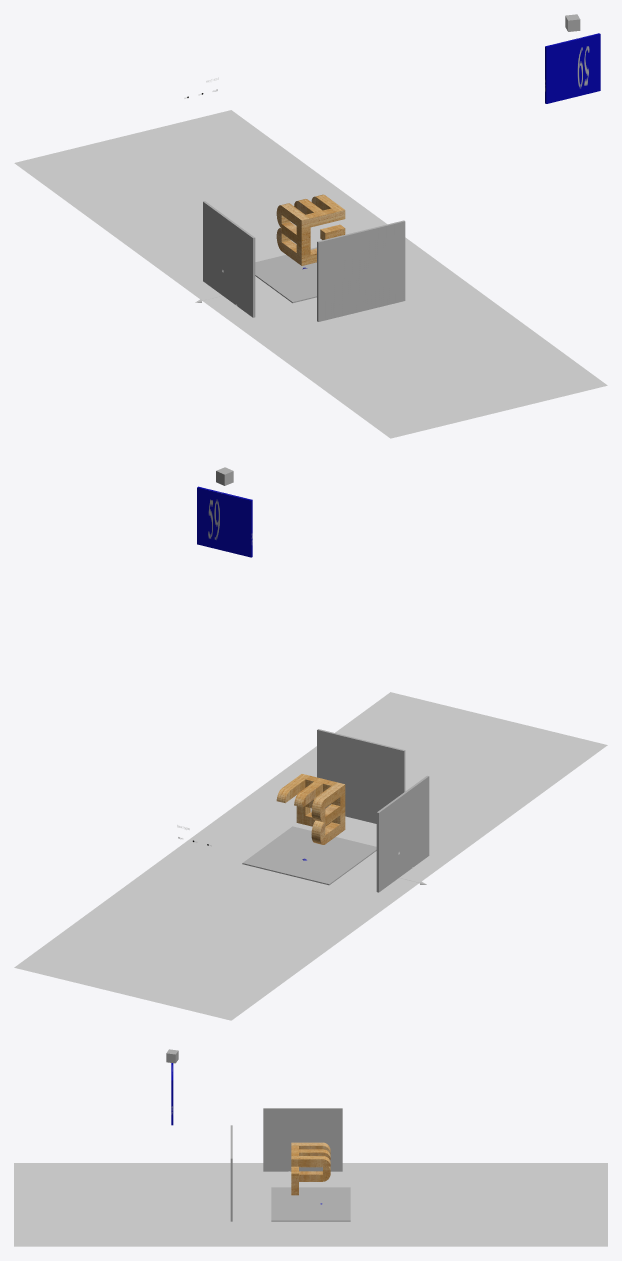
The model's file is geb_cube_scene_blender.glb.
3 views of the same model, one above another, from view 1: azimuth 30°, elevation 25°; view 2: azimuth 150°, elevation 25°; view 3: azimuth 270°, elevation 25° (orthographic). The views are drawn at different scales.
Parts seen in each view (by area): view 1: ground, rear-screen, right-screen, fps-panel, geb_block, bottom-screen; view 2: ground, rear-screen, right-screen, bottom-screen, fps-panel, geb_block; view 3: ground, right-screen, bottom-screen, geb_block, rear-screen.
Part boxes in pixels (box(x1,y1,x2,y2)): ground: box(14, 110, 607, 438); rear-screen: box(317, 220, 405, 321); right-screen: box(203, 201, 255, 317); fps-panel: box(545, 33, 600, 103); geb_block: box(276, 194, 345, 265); bottom-screen: box(255, 247, 316, 303); ground: box(14, 692, 607, 1020); rear-screen: box(317, 729, 405, 823); right-screen: box(376, 775, 429, 892); bottom-screen: box(242, 826, 376, 885); fps-panel: box(197, 486, 252, 557); geb_block: box(276, 774, 345, 844); ground: box(14, 1163, 607, 1246); right-screen: box(263, 1108, 342, 1171); bottom-screen: box(271, 1187, 350, 1221); geb_block: box(291, 1142, 330, 1195); rear-screen: box(230, 1125, 232, 1221).
Bounding box in the file's own units: 14.6 × 12.75 × 30.
9 materials, 3 textured.
